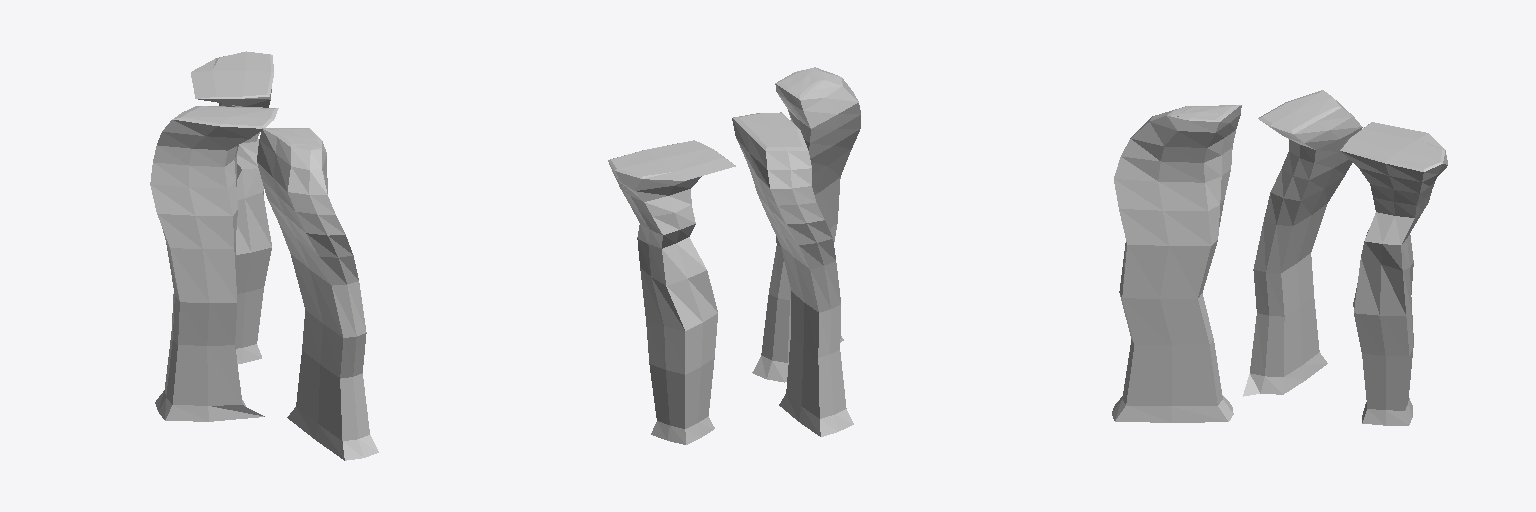
File: Rock7_mod.obj
3 views of the same model, side by side, from view 1: azimuth 30°, elevation 25°; view 2: azimuth 150°, elevation 25°; view 3: azimuth 270°, elevation 25° (orthographic).
Parts seen in each view (by area): view 1: Cube.005_Cube.016; view 2: Cube.005_Cube.016; view 3: Cube.005_Cube.016.
Boxes of the visible parts, x1,y1,x2,y2 form: Cube.005_Cube.016: [150, 51, 378, 460]; Cube.005_Cube.016: [608, 67, 860, 444]; Cube.005_Cube.016: [1112, 90, 1447, 425].
Size of the model in its own units: 21.97 by 34.7 by 36.22.